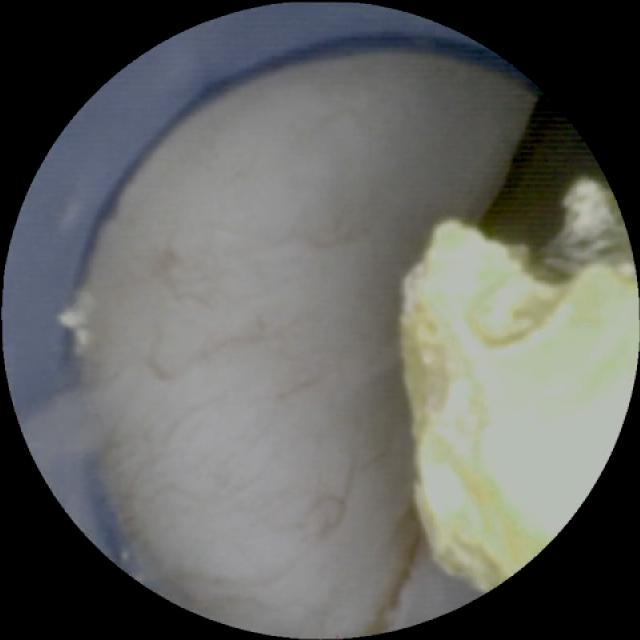stone: (403, 189, 633, 587)
tissue: (90, 62, 527, 633)
